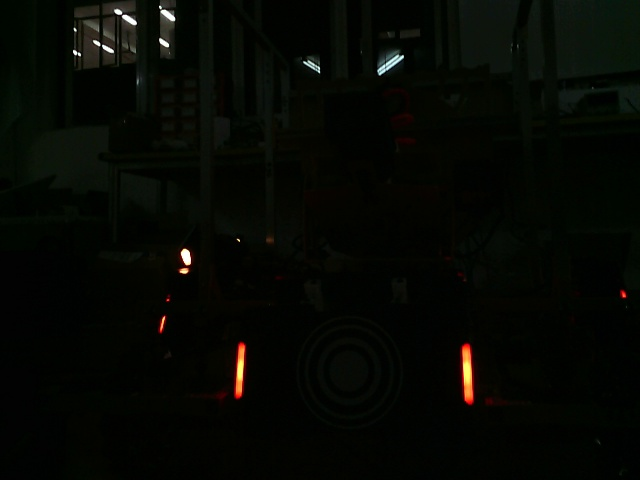lamp: (454, 341, 479, 409), (231, 338, 248, 404)
